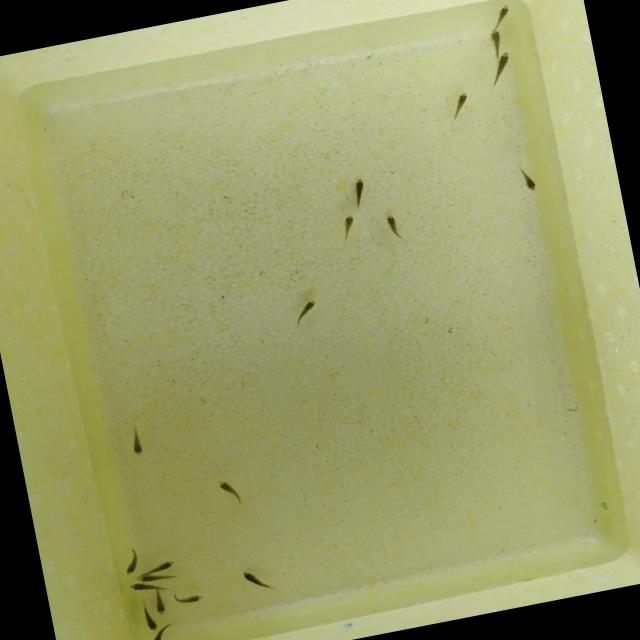fingerling: (282, 287, 330, 334), (482, 48, 522, 89), (437, 88, 478, 128), (238, 559, 280, 598), (210, 472, 247, 512), (118, 423, 152, 462), (378, 208, 412, 246), (511, 161, 542, 197), (118, 548, 152, 578), (346, 173, 371, 210), (172, 584, 210, 608), (336, 212, 362, 243), (488, 0, 512, 25), (484, 28, 506, 52), (150, 590, 168, 618), (154, 556, 182, 574), (138, 604, 156, 631), (125, 580, 154, 596), (143, 628, 173, 640), (132, 570, 156, 584)
